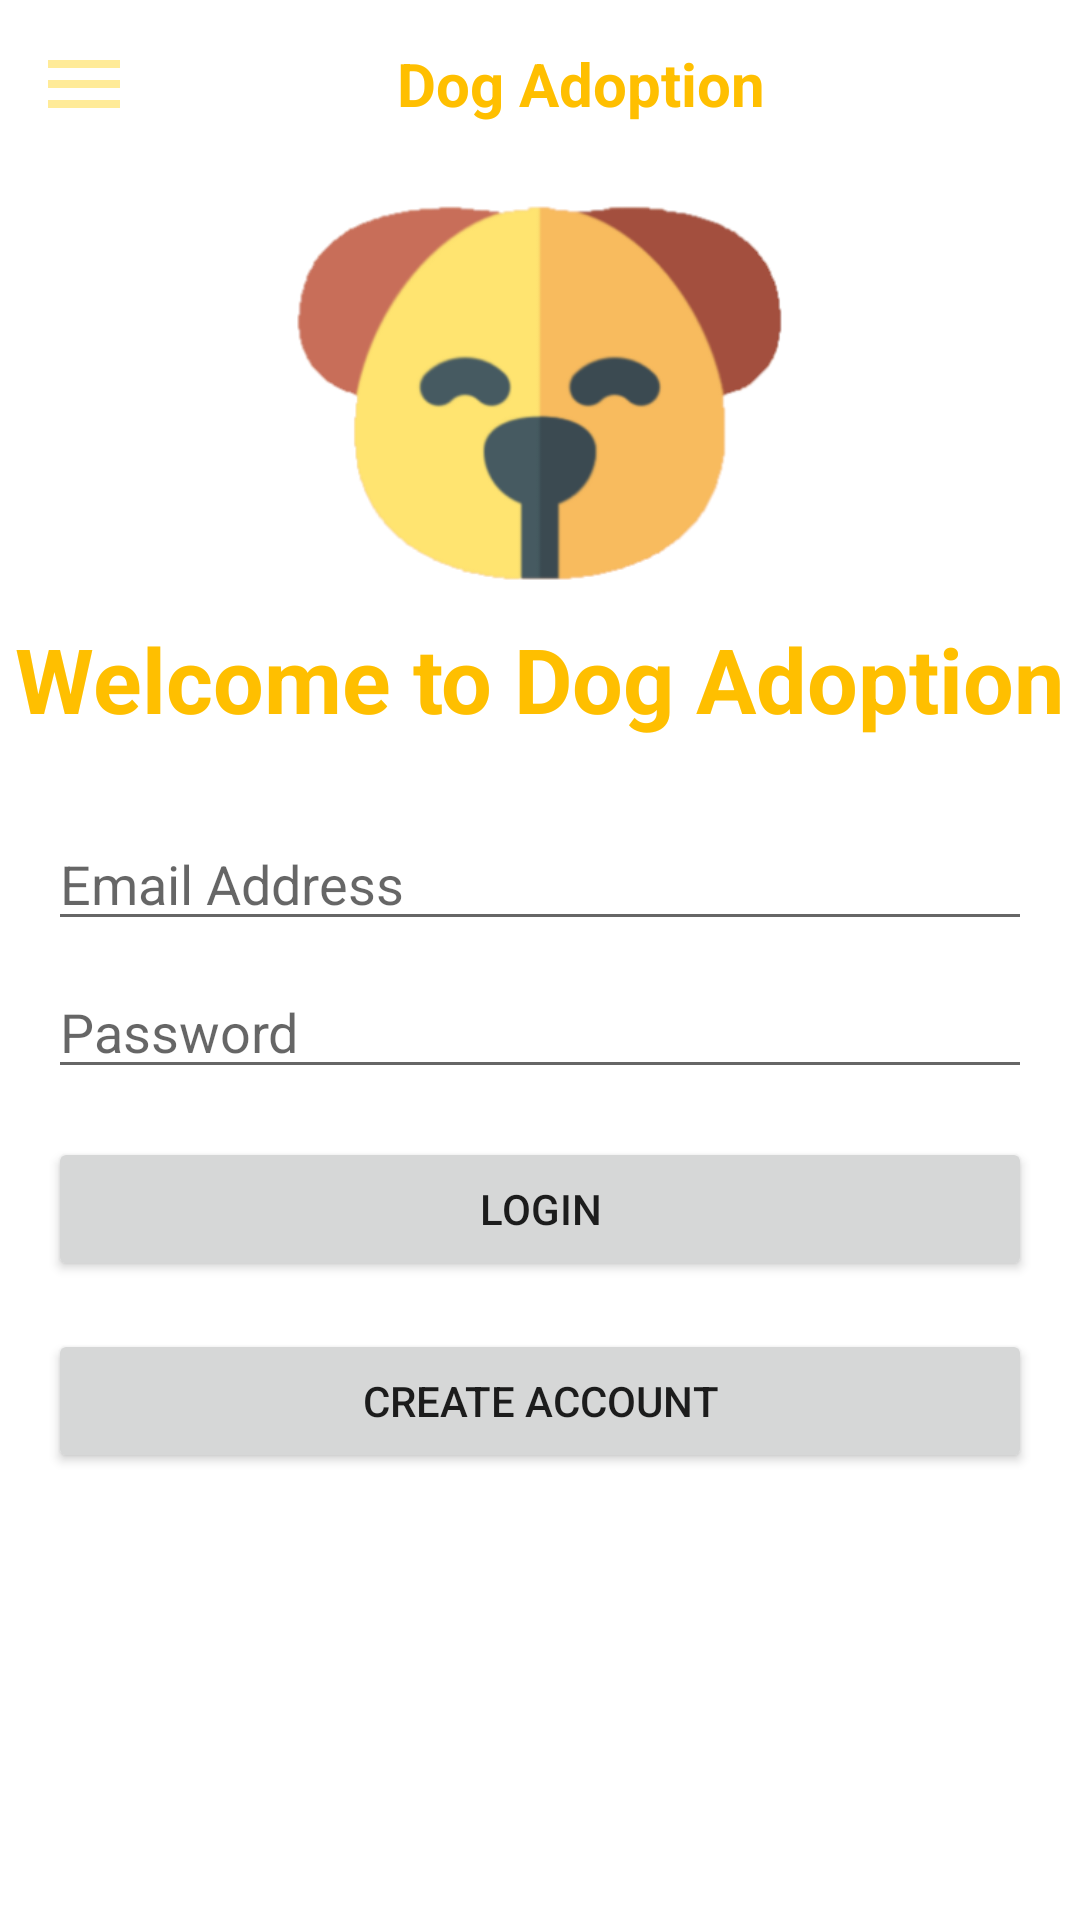

Icons on this 1080px x 1920px Android screen, each with the point to tap as point (x, y):
menu: point (84, 84)
